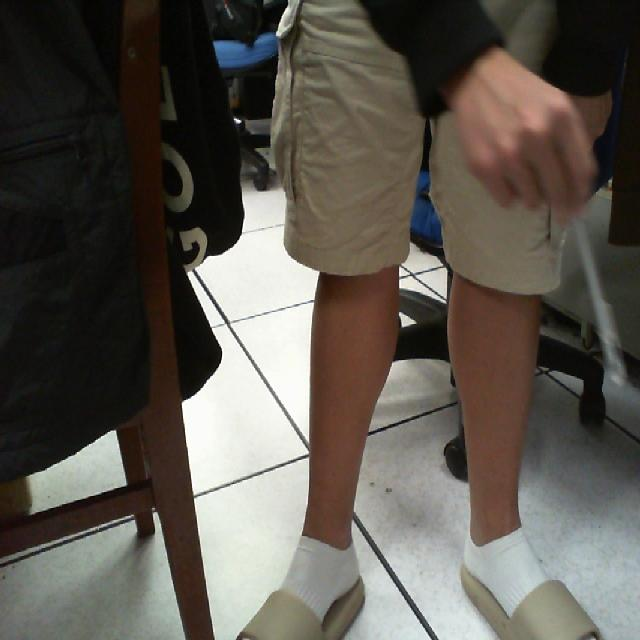Pen: (552, 182, 637, 422)
